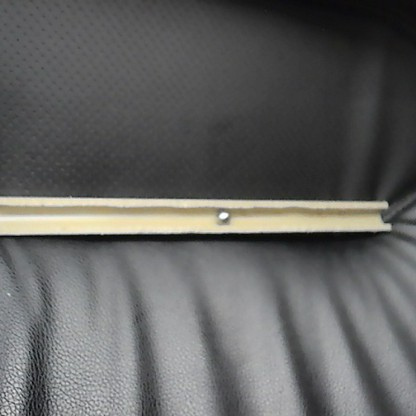ironball: (213, 208, 229, 225)
